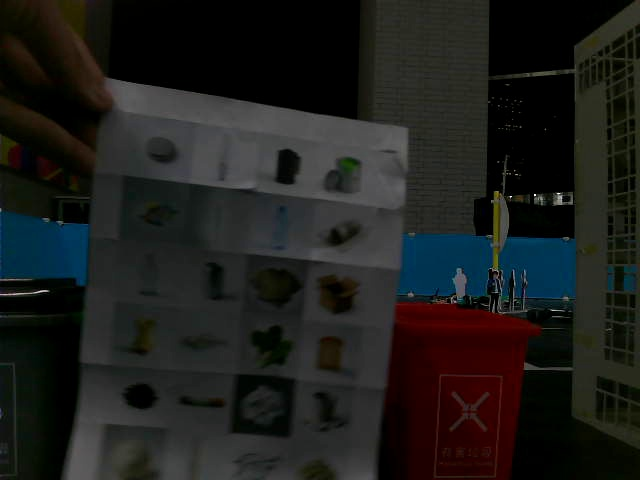food_trash: (176, 310, 236, 368), (240, 316, 299, 374), (112, 308, 172, 365), (302, 326, 361, 381), (110, 372, 167, 423)
hazardous_trash: (191, 126, 253, 185), (126, 183, 186, 239), (188, 190, 245, 248), (132, 121, 188, 179), (258, 140, 313, 195), (317, 148, 373, 200)
other_trash: (294, 384, 361, 434), (172, 375, 232, 429), (237, 378, 292, 432)
recyclable_trash: (117, 240, 182, 304), (306, 265, 370, 323), (244, 259, 306, 316), (253, 197, 309, 256), (316, 207, 374, 261), (317, 149, 372, 201), (185, 253, 238, 306)
